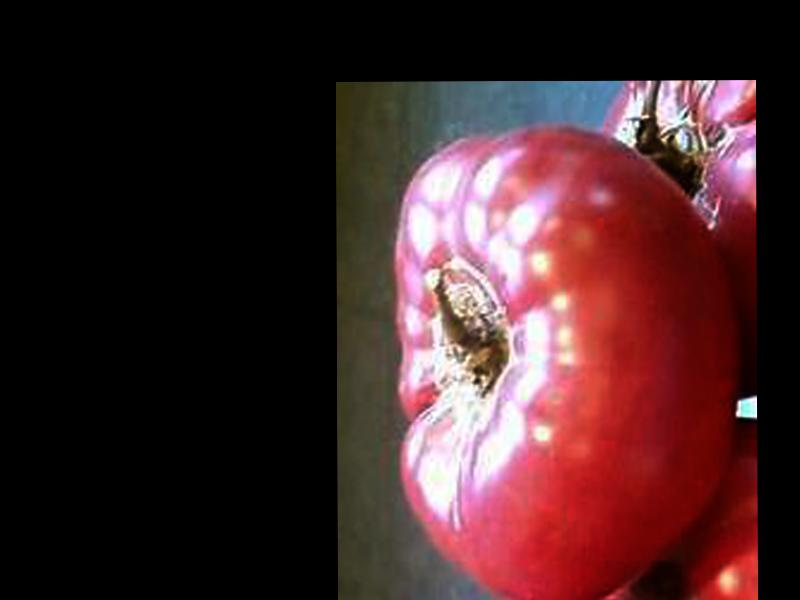Tomato: (393, 123, 739, 600)
